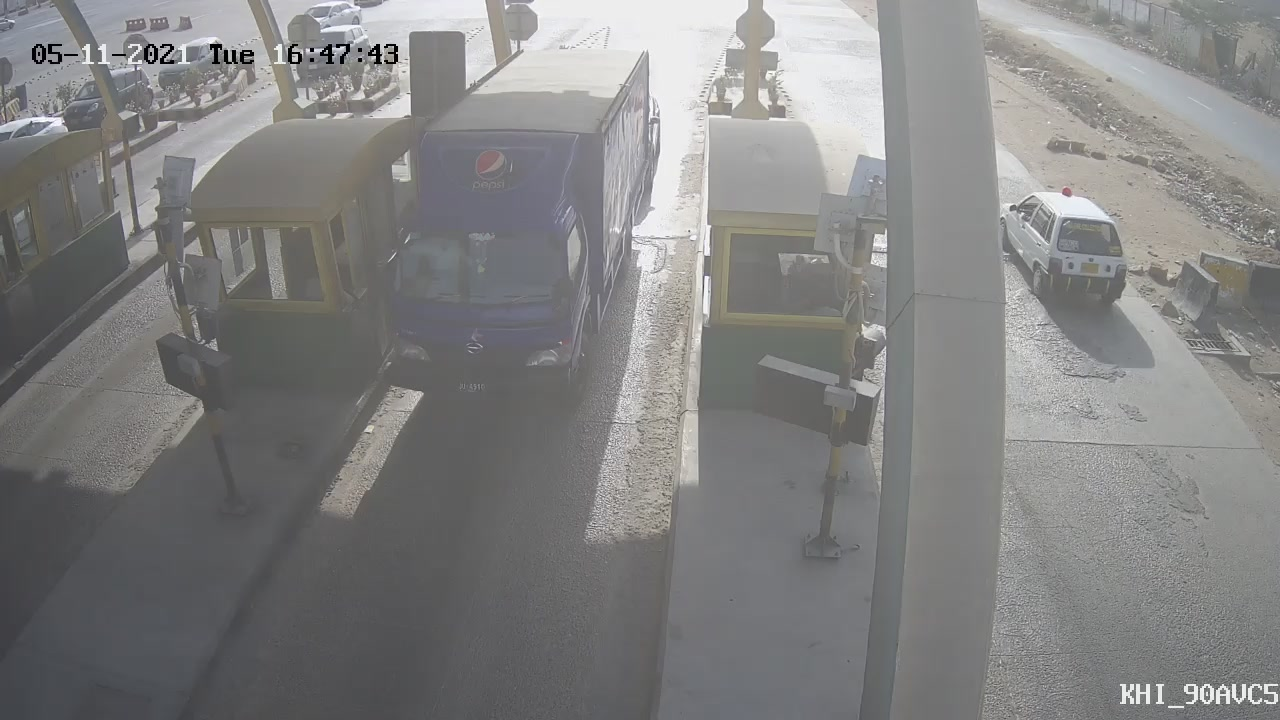F5: (321, 22, 687, 420)
